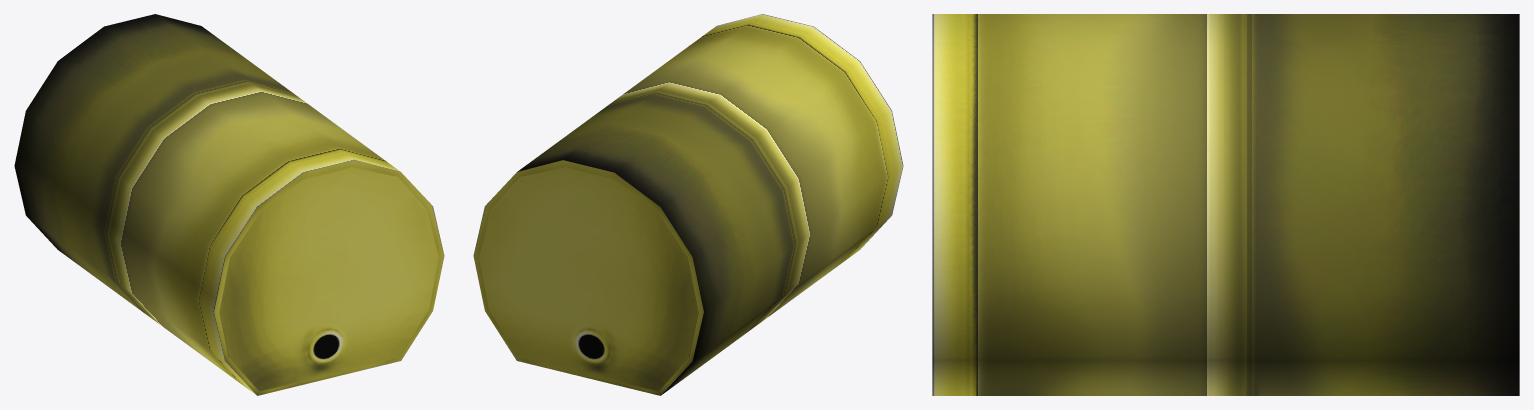
File: Toxic_barrel_resized.fbx
The picture shows the model from 3 angles, left to right: view 1: azimuth 30°, elevation 25°; view 2: azimuth 150°, elevation 25°; view 3: azimuth 270°, elevation 25°; orthographic projection. The views are drawn at different scales.
Visible parts, largest first — view 1: Toxic__barrel; view 2: Toxic__barrel; view 3: Toxic__barrel.
Boxes of the visible parts, x1=… form: Toxic__barrel: x1=14, y1=14, x2=444, y2=395; Toxic__barrel: x1=473, y1=14, x2=903, y2=395; Toxic__barrel: x1=932, y1=14, x2=1519, y2=395.
Bounding box in the file's own units: 4.77 × 4.2 × 7.16.
